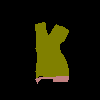canottiera: (35, 21, 69, 78)
shorts: (34, 76, 68, 84)
